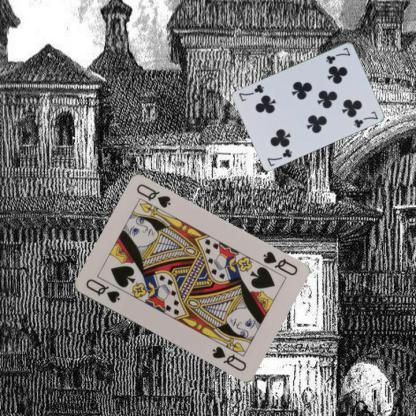7c: (264, 146, 294, 167), (324, 44, 351, 66)
Qs: (260, 248, 299, 278), (83, 276, 121, 305)
